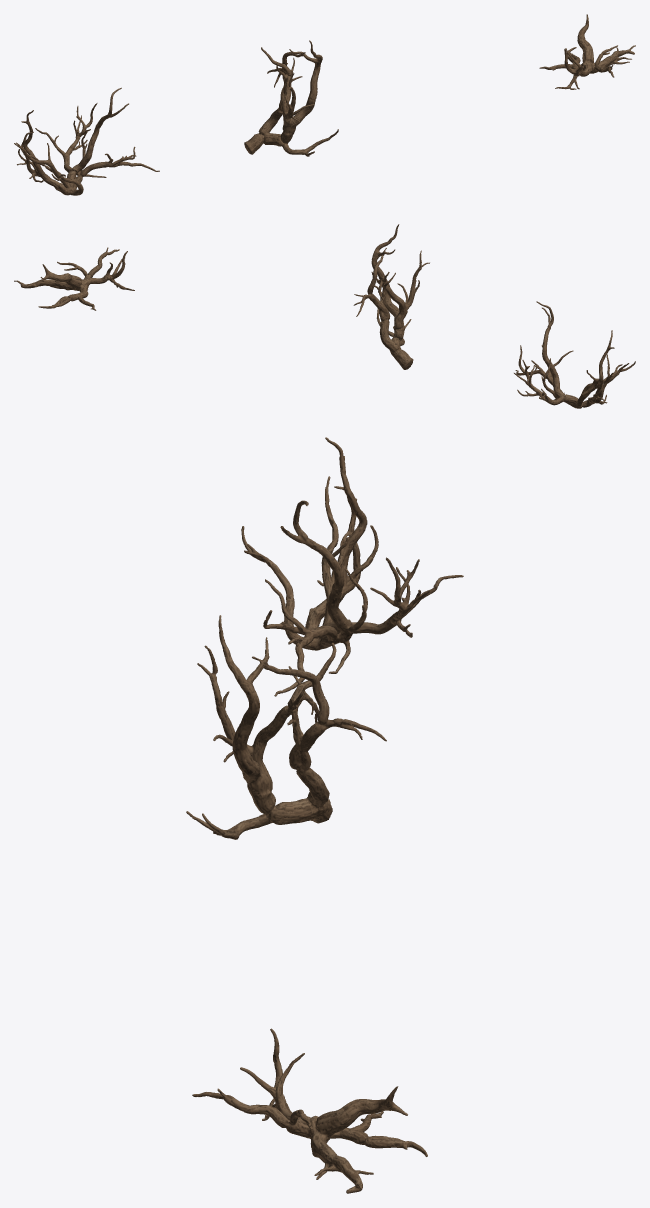
3 views of the same model, one above another, from view 1: azimuth 30°, elevation 25°; view 2: azimuth 150°, elevation 25°; view 3: azimuth 270°, elevation 25° (orthographic). The views are drawn at different scales.
Visible parts, largest first — view 1: driftwood-0, driftwood-1, driftwood-2; view 2: driftwood-1, driftwood-0, driftwood-2; view 3: driftwood-1, driftwood-0, driftwood-2.
Boxes of the visible parts, x1,y1,x2,y2 form: driftwood-0: (14, 87, 159, 195); driftwood-1: (244, 40, 338, 156); driftwood-2: (539, 14, 635, 89); driftwood-1: (353, 224, 429, 369); driftwood-0: (514, 301, 635, 408); driftwood-2: (14, 247, 134, 310); driftwood-1: (186, 615, 386, 839); driftwood-0: (241, 437, 463, 696); driftwood-2: (192, 1028, 427, 1193).
Bounding box in the file's own units: 3.43 × 0.6568 × 0.6784.
